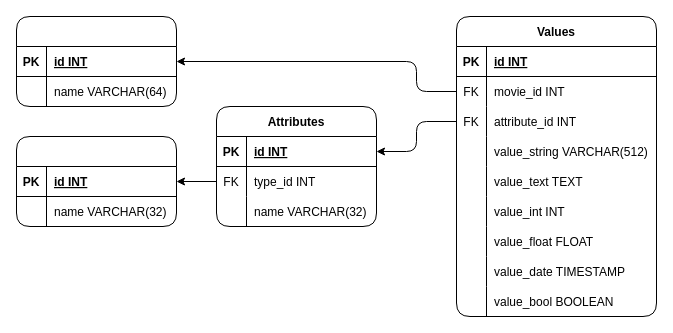
Some shapes in this 673 by 333 pixel diagram are drawn without their labels. Each missing label, with the box of its shape:
AttributeTypes: (16, 136, 176, 226)
Movies: (16, 16, 176, 106)
